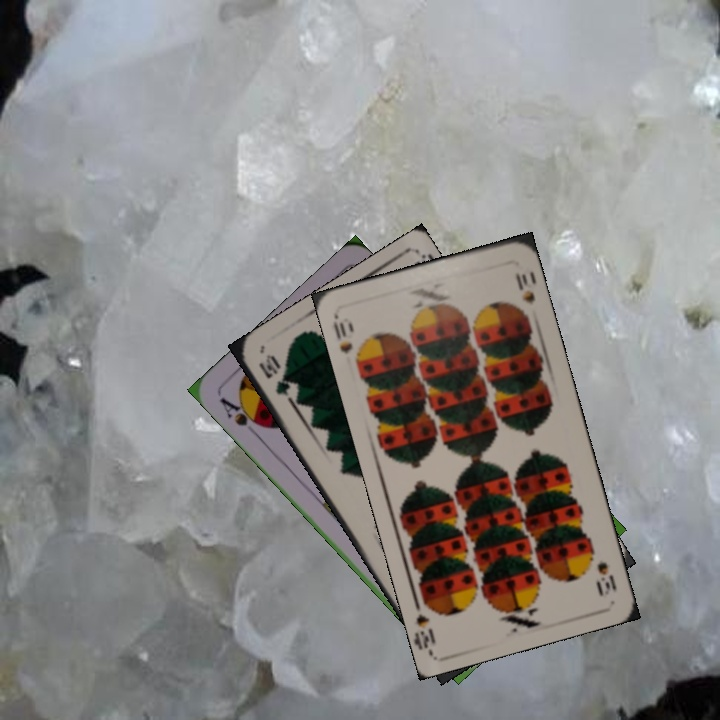G10: (254, 350, 301, 406)
S10: (329, 313, 366, 369), (592, 557, 619, 599)
SA: (215, 393, 268, 439)
